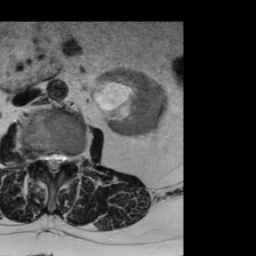CCS_normal: (49, 146, 56, 183)
LFS_normal: (65, 146, 74, 172)
LLS_normal: (56, 144, 65, 172)
RFS_normal: (34, 144, 42, 168)
RLS_stenosis: (42, 146, 49, 174)
